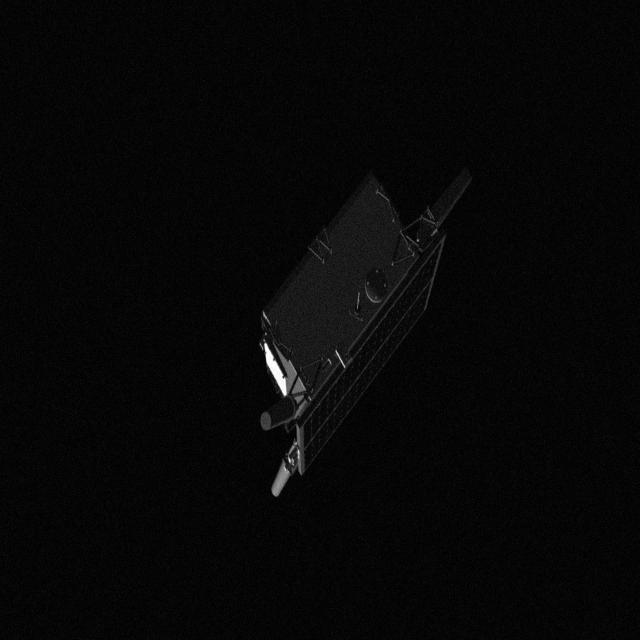medium_debris: (256, 162, 486, 532)
